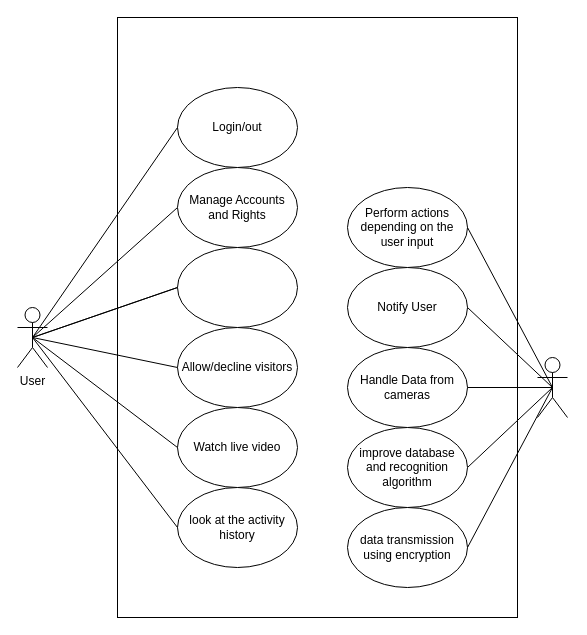
This 587x635 diagram has some shape labels left out. The centre of each missing label's shape, as x and y in pixels:
"Filter for saved categories of visitors (e.g. known, unknown, unwelcome)" goes at [237,287].
"Server" goes at [552,387].
